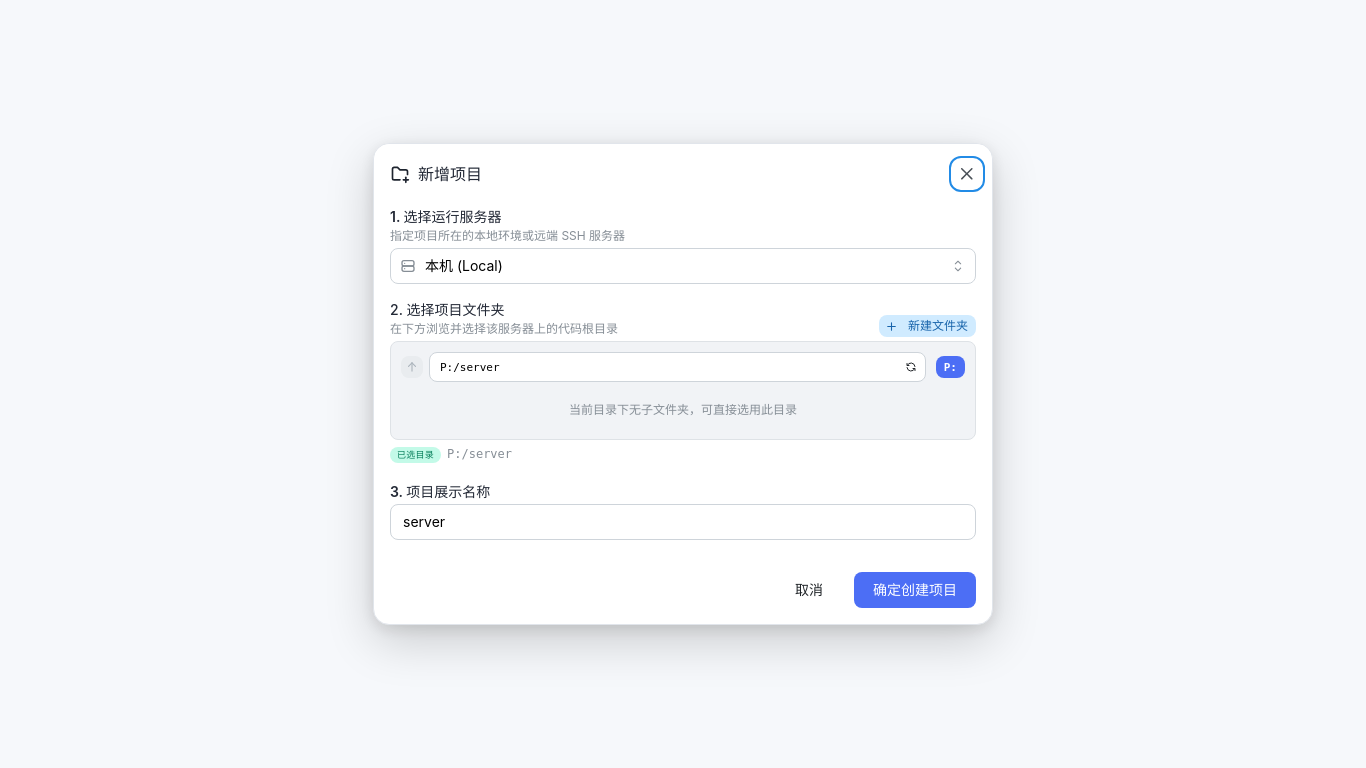
Test: clears host drives even when the remote request fails and shows its reason
Expected: the button "P:" is shown, left=936, top=356, right=965, bottom=378
Step 1. Select "WSL (tester@127.0.0.1)" in the dropdown labelled "1. 选择运行服务器" → (683,266), box left=390, top=248, right=976, bottom=284
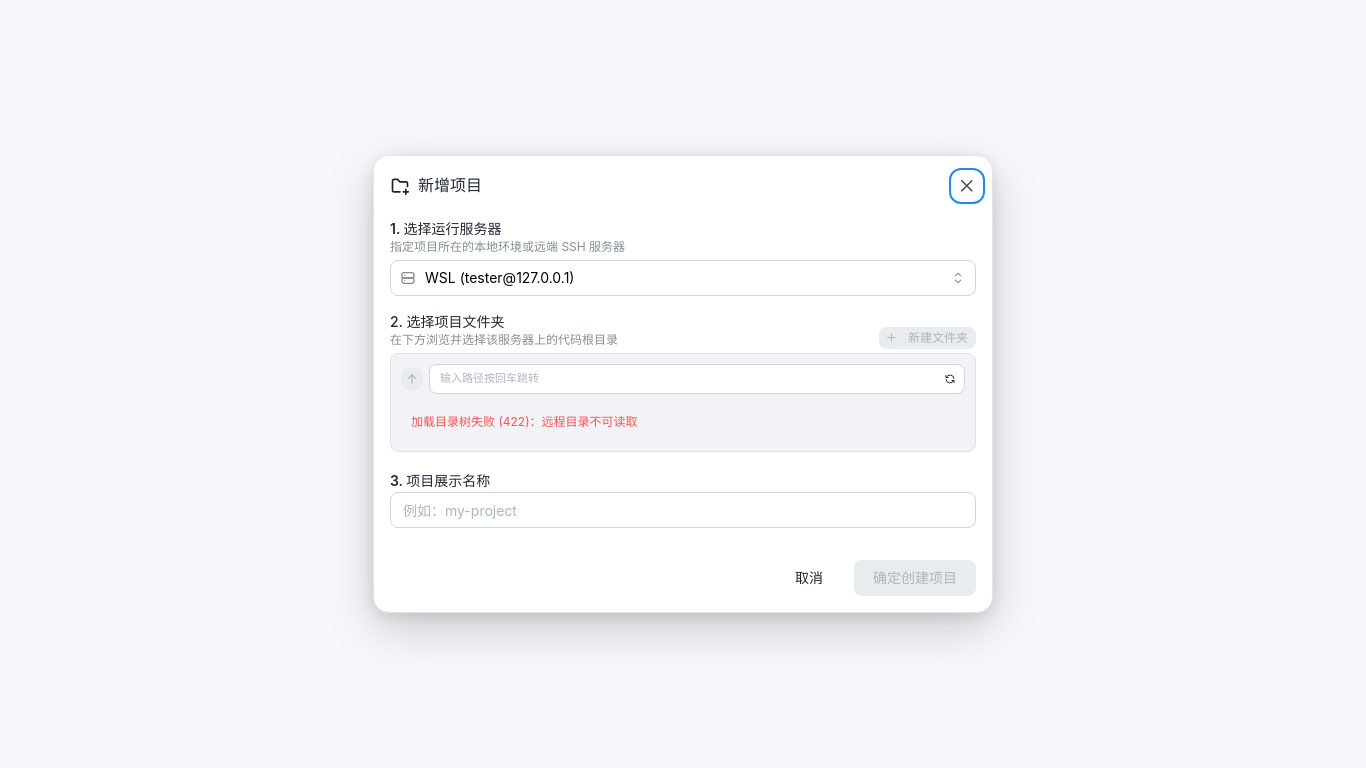
Now the text "加载目录树失败 (422)：远程目录不可读取" is shown, box left=411, top=414, right=638, bottom=429
Now the button "P:" is gone
Now the button "确定创建项目" is disabled, box left=854, top=560, right=976, bottom=596
Step 2. Select "本机 (Local)" in the dropdown labelled "1. 选择运行服务器" → (683,278), box left=390, top=260, right=976, bottom=296
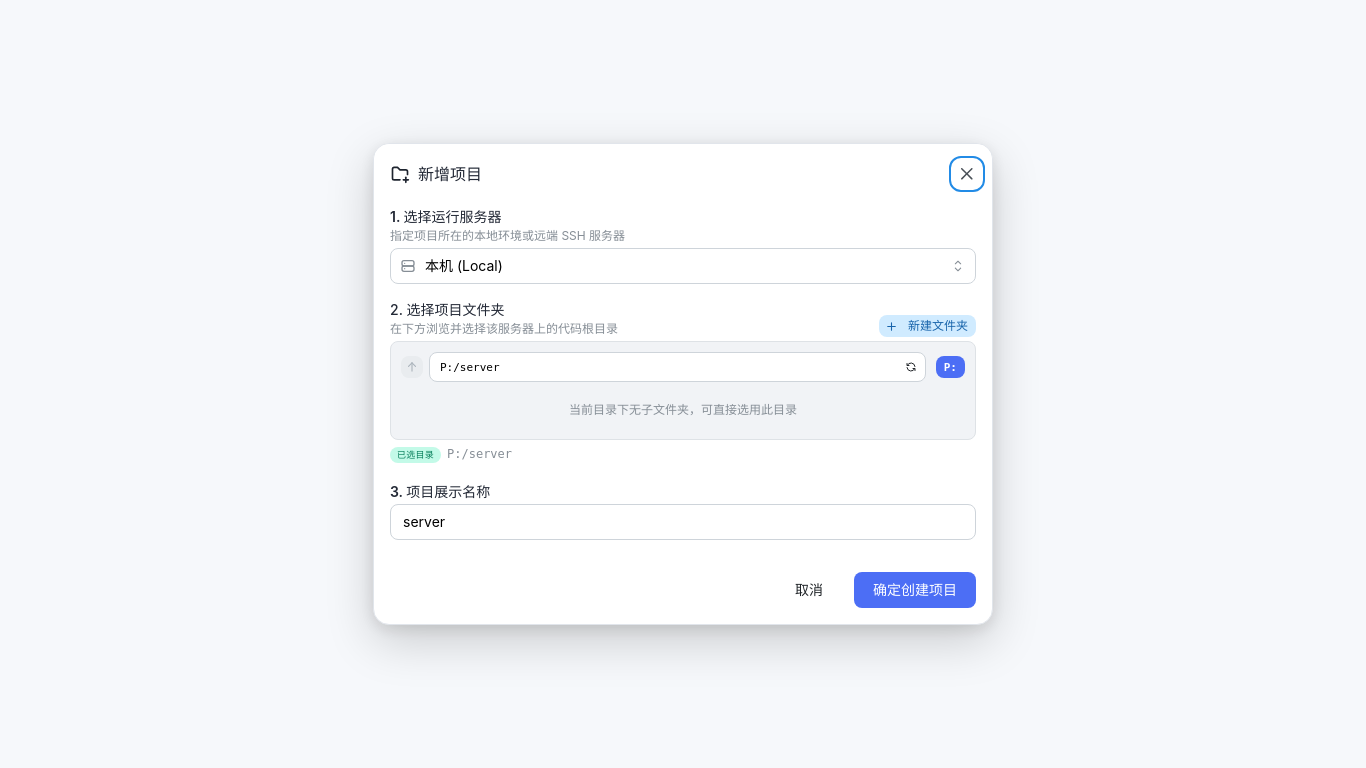
Now the button "P:" is shown, box left=936, top=356, right=965, bottom=378
Now the field with placeholder "输入路径按回车跳转" holds "P:/server", box left=429, top=352, right=926, bottom=382
